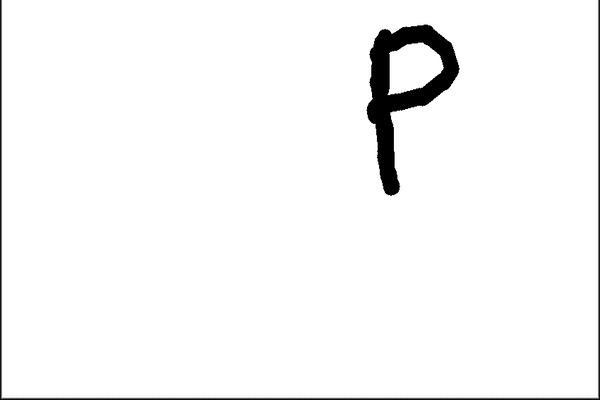P: (355, 19, 467, 199)
